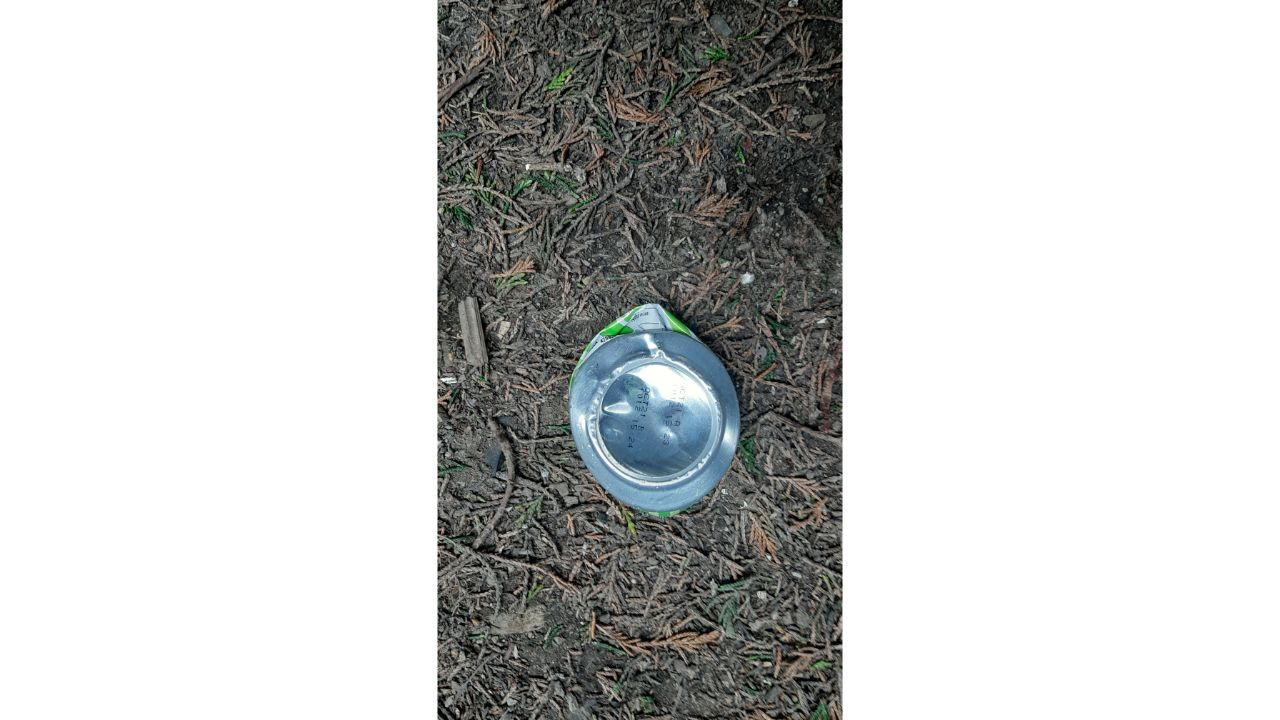Can: (567, 302, 742, 521)
